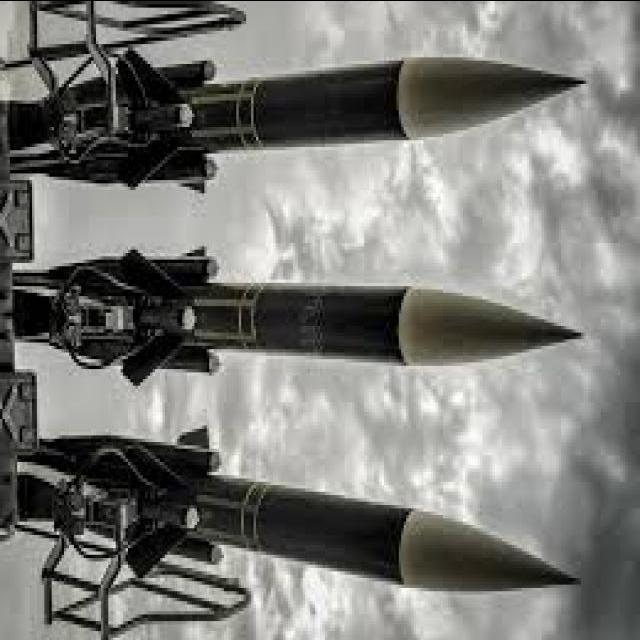Missile: (192, 438, 601, 599), (188, 258, 587, 379), (212, 35, 585, 146)
